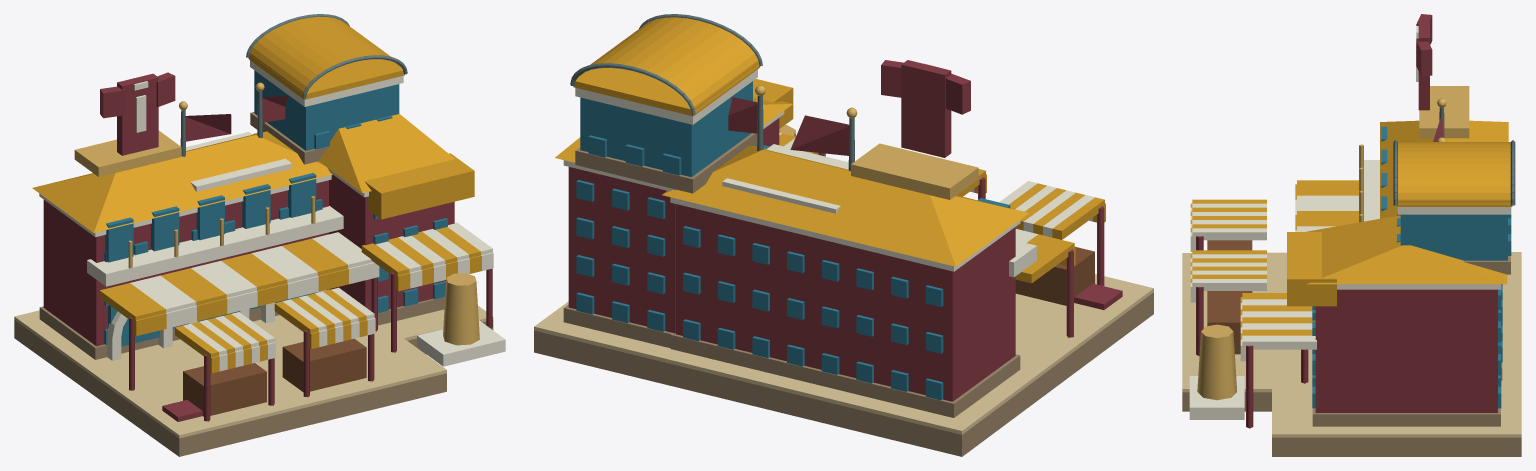
The model's file is club-shop-lv4.glb.
3 renders of one model, left to right at view 1: azimuth 30°, elevation 25°; view 2: azimuth 150°, elevation 25°; view 3: azimuth 270°, elevation 25°, orthographic. The views are drawn at different scales.
Parts seen in each view (by area): view 1: foundation_sand, market_row_roof_ochre, awnings_ochre, awnings_white, market_row_burgundy, foundation_stoneDark, showroom_roof_ochre, market_stalls_wood, shop_balcony_white, retail_corner_roof_ochre, upper_shop_windows_glass, retail_corner_burgundy (+24 smaller); view 2: market_row_burgundy, market_row_roof_ochre, foundation_sand, foundation_stoneDark, retail_corner_burgundy, showroom_roof_ochre, market_row_windows_glass, showroom_glass, jersey_sign_burgundy, market_row_stoneDark, sign_plinth_gold, retail_corner_windows_glass (+17 smaller); view 3: retail_corner_burgundy, foundation_sand, retail_corner_roof_ochre, awnings_white, showroom_roof_ochre, awnings_ochre, foundation_stoneDark, showroom_glass, corner_gate_ochre, retail_corner_stoneDark, market_row_roof_ochre, club_trophy_gold (+14 smaller).
Part boxes in pixels (<box>): foundation_sand: <box>14,306,493,438</box>; market_row_roof_ochre: <box>32,131,332,232</box>; awnings_ochre: <box>99,227,480,360</box>; awnings_white: <box>130,222,492,355</box>; market_row_burgundy: <box>43,180,328,346</box>; foundation_stoneDark: <box>14,320,493,456</box>; showroom_roof_ochre: <box>248,16,404,99</box>; market_stalls_wood: <box>183,338,366,416</box>; shop_balcony_white: <box>87,205,343,286</box>; retail_corner_roof_ochre: <box>319,114,454,193</box>; upper_shop_windows_glass: <box>105,173,316,262</box>; retail_corner_burgundy: <box>329,175,454,311</box>; market_row_burgundy: <box>675,204,1015,401</box>; market_row_roof_ochre: <box>662,145,1028,266</box>; foundation_sand: <box>534,274,1153,434</box>; foundation_stoneDark: <box>534,292,1153,456</box>; retail_corner_burgundy: <box>568,118,779,333</box>; showroom_roof_ochre: <box>573,17,759,116</box>; market_row_windows_glass: <box>683,226,943,400</box>; showroom_glass: <box>580,81,752,177</box>; jersey_sign_burgundy: <box>881,60,970,157</box>; market_row_stoneDark: <box>670,334,1020,417</box>; sign_plinth_gold: <box>851,143,978,199</box>; retail_corner_windows_glass: <box>576,180,665,331</box>; retail_corner_burgundy: <box>1315,289,1497,412</box>; foundation_sand: <box>1182,252,1521,437</box>; retail_corner_roof_ochre: <box>1306,215,1507,284</box>; awnings_white: <box>1192,195,1358,349</box>; showroom_roof_ochre: <box>1396,142,1512,206</box>; awnings_ochre: <box>1192,180,1358,335</box>; foundation_stoneDark: <box>1182,392,1521,456</box>; showroom_glass: <box>1400,214,1507,260</box>; corner_gate_ochre: <box>1287,232,1336,306</box>; retail_corner_stoneDark: <box>1312,408,1500,426</box>; market_row_roof_ochre: <box>1380,120,1508,218</box>; club_trophy_gold: <box>1197,324,1236,400</box>.
Bounding box in the file's own units: 1 × 0.7283 × 0.7861.
